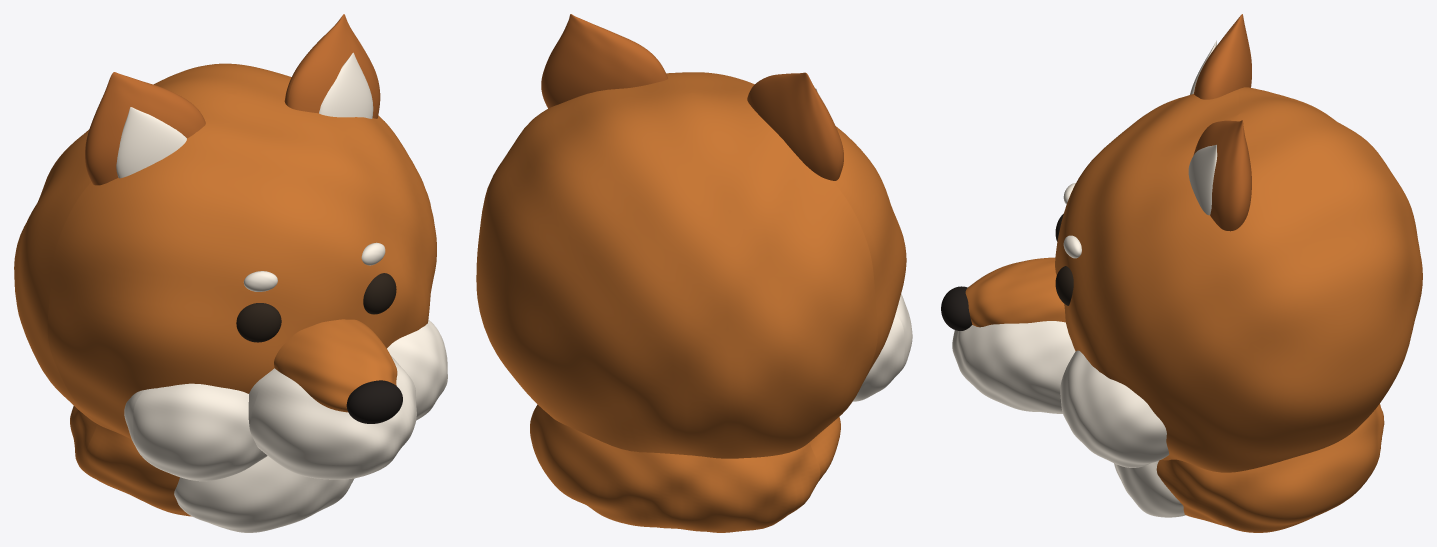
The model's file is head-dog-shiba-full.glb.
3 views of the same model, side by side, from view 1: azimuth 30°, elevation 25°; view 2: azimuth 150°, elevation 25°; view 3: azimuth 270°, elevation 25° (orthographic). The views are drawn at different scales.
Parts seen in each view (by area): view 1: PM_FUR_MAIN_1, PM_FUR_SECONDARY_4, PM_FUR_SECONDARY_2, PM_FUR_SECONDARY_16, PM_FUR_MAIN_5, PM_EARS_11, PM_FUR_MAIN_15, PM_EARS_13, PM_FUR_SECONDARY_3, PM_FUR_SECONDARY_12, PM_FUR_SECONDARY_14, PM_NOSE_6 (+3 smaller); view 2: PM_FUR_MAIN_1, PM_FUR_MAIN_15, PM_EARS_13, PM_EARS_11, PM_FUR_SECONDARY_2; view 3: PM_FUR_MAIN_1, PM_FUR_MAIN_15, PM_FUR_SECONDARY_4, PM_FUR_SECONDARY_3, PM_FUR_MAIN_5, PM_EARS_13, PM_EARS_11, PM_FUR_SECONDARY_16, PM_FUR_SECONDARY_14, PM_NOSE_6, PM_EYES_8.
Boxes of the visible parts, left/top/right/bottom form: PM_FUR_MAIN_1: left=14, top=63, right=436, bottom=439; PM_FUR_SECONDARY_4: left=248, top=355, right=416, bottom=479; PM_FUR_SECONDARY_2: left=124, top=383, right=267, bottom=481; PM_FUR_SECONDARY_16: left=174, top=456, right=354, bottom=532; PM_FUR_MAIN_5: left=274, top=319, right=397, bottom=412; PM_EARS_11: left=85, top=72, right=205, bottom=185; PM_FUR_MAIN_15: left=70, top=406, right=191, bottom=516; PM_EARS_13: left=284, top=14, right=380, bottom=118; PM_FUR_SECONDARY_3: left=387, top=319, right=447, bottom=420; PM_FUR_SECONDARY_12: left=116, top=107, right=186, bottom=178; PM_FUR_SECONDARY_14: left=319, top=52, right=373, bottom=118; PM_NOSE_6: left=346, top=380, right=402, bottom=423; PM_FUR_MAIN_1: left=476, top=72, right=906, bottom=458; PM_FUR_MAIN_15: left=530, top=404, right=840, bottom=532; PM_EARS_13: left=541, top=14, right=667, bottom=108; PM_EARS_11: left=747, top=72, right=843, bottom=180; PM_FUR_SECONDARY_2: left=853, top=294, right=912, bottom=401; PM_FUR_MAIN_1: left=1055, top=87, right=1422, bottom=472; PM_FUR_MAIN_15: left=1156, top=404, right=1384, bottom=532; PM_FUR_SECONDARY_4: left=952, top=321, right=1075, bottom=413; PM_FUR_SECONDARY_3: left=1060, top=350, right=1169, bottom=467; PM_FUR_MAIN_5: left=965, top=257, right=1065, bottom=327; PM_EARS_13: left=1193, top=120, right=1251, bottom=231; PM_EARS_11: left=1194, top=14, right=1251, bottom=99; PM_FUR_SECONDARY_16: left=1114, top=461, right=1185, bottom=517; PM_FUR_SECONDARY_14: left=1188, top=144, right=1217, bottom=215; PM_NOSE_6: left=941, top=286, right=972, bottom=330; PM_EYES_8: left=1055, top=266, right=1073, bottom=305.
Bounding box in the file's own units: 0.0651 × 0.0779 × 0.077.
